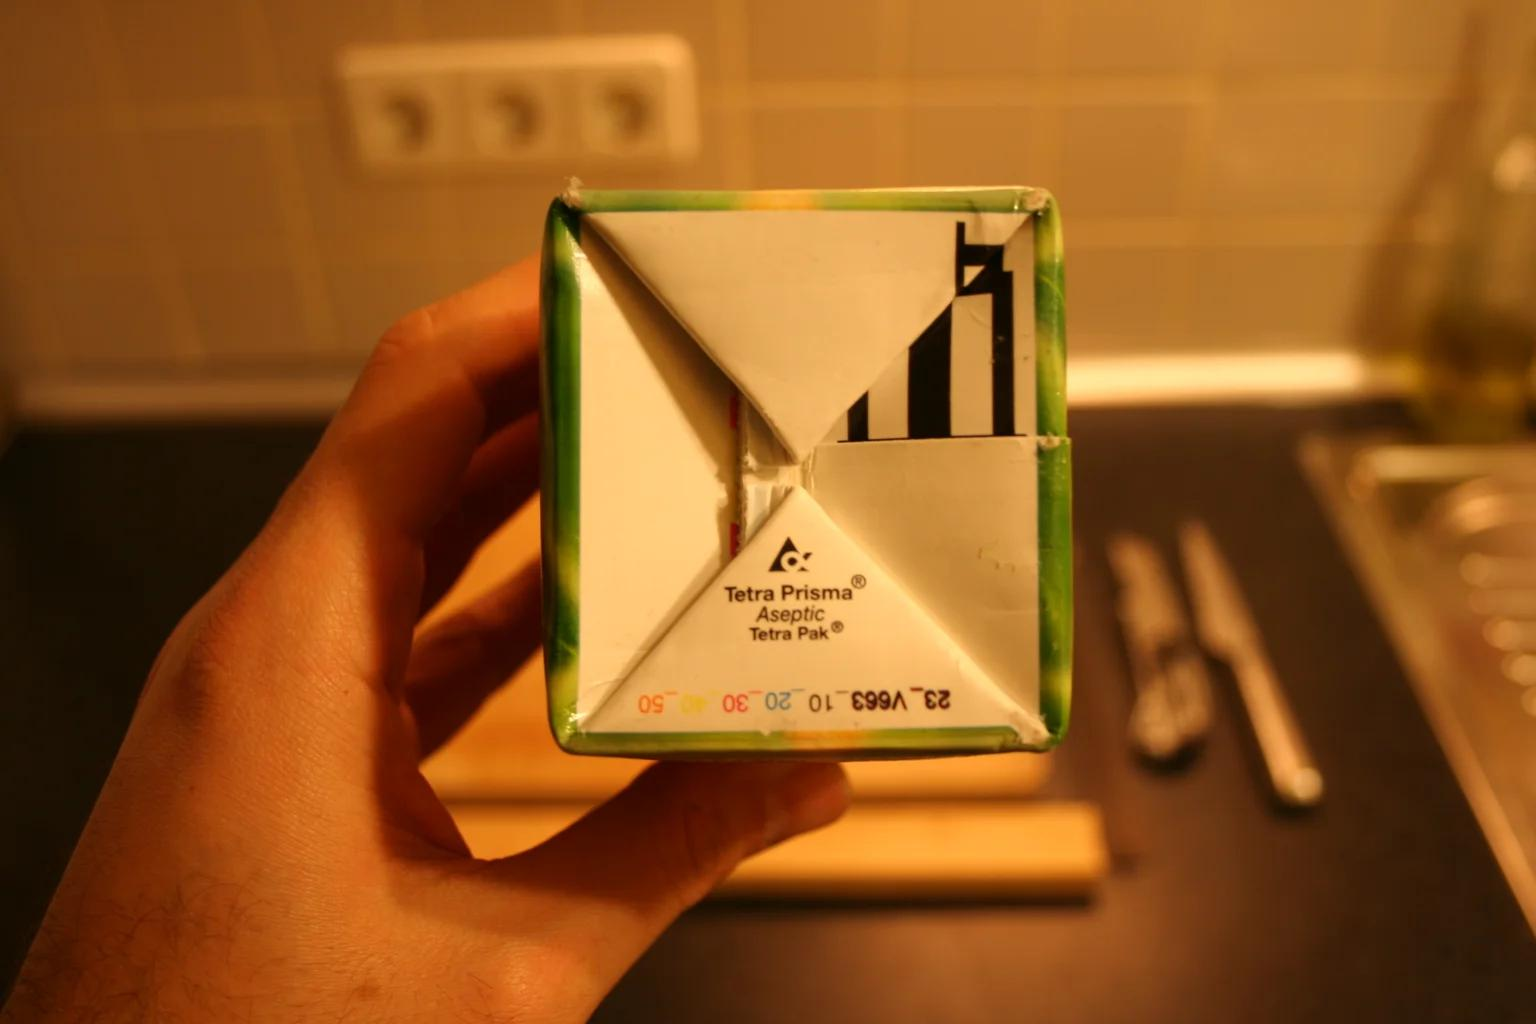cardboard: (543, 187, 1071, 757)
